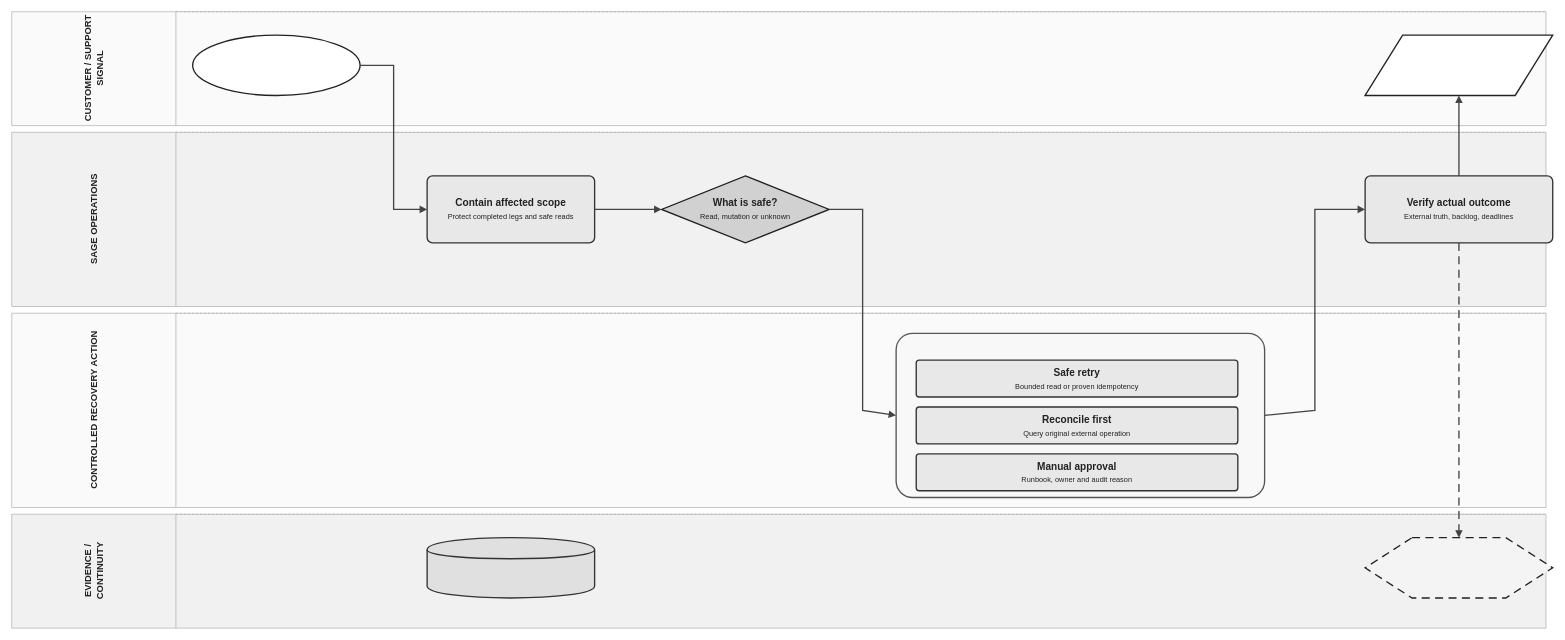
This 1565x640 diagram has some shape labels left out. The box of each missing label's shape, as (x1, y1, x2, y2) in pixels:
Choose one permitted recovery action: (895, 332, 1265, 498)
Explain result Impact, evidence and next action: (1364, 34, 1553, 96)
Failure detected Customer, telemetry or partner: (192, 34, 360, 96)
Original operation Idempotency and route evidence: (426, 537, 595, 598)
Still unknown Keep case open and escalate: (1364, 537, 1553, 598)
